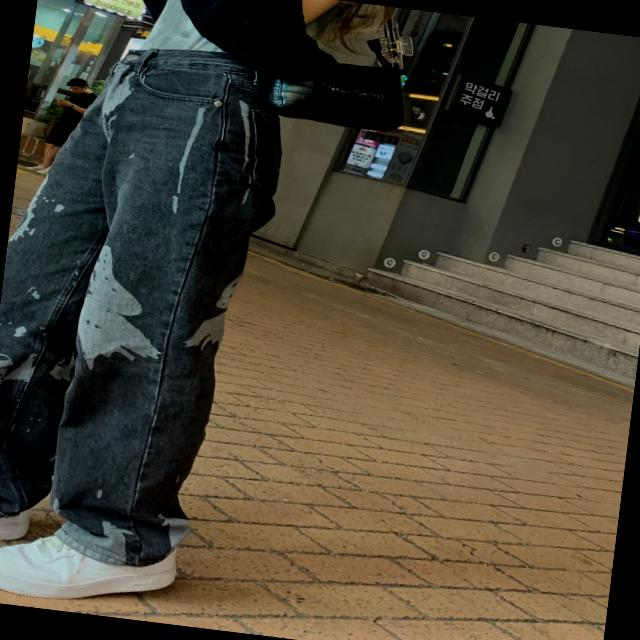denimpants: (0, 25, 293, 583)
